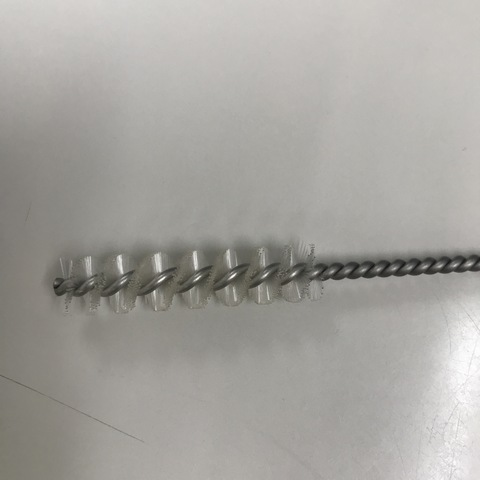Twist Brush-B: (43, 245, 480, 318)
